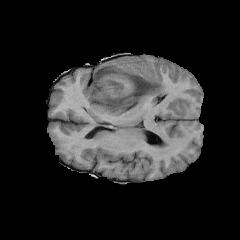glioma: (83, 57, 167, 115)
